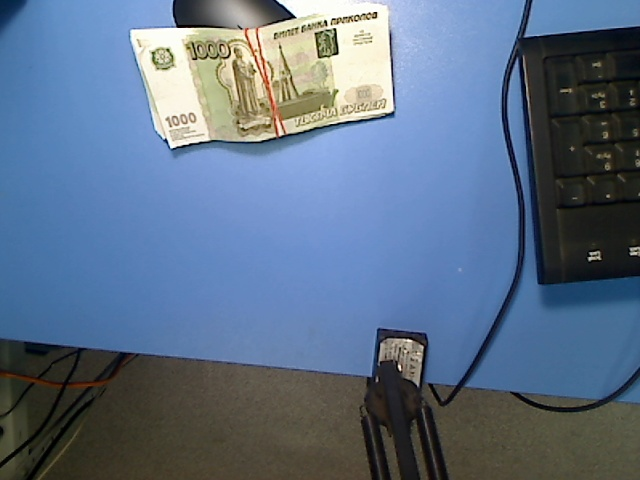banknotes: (131, 3, 395, 151)
